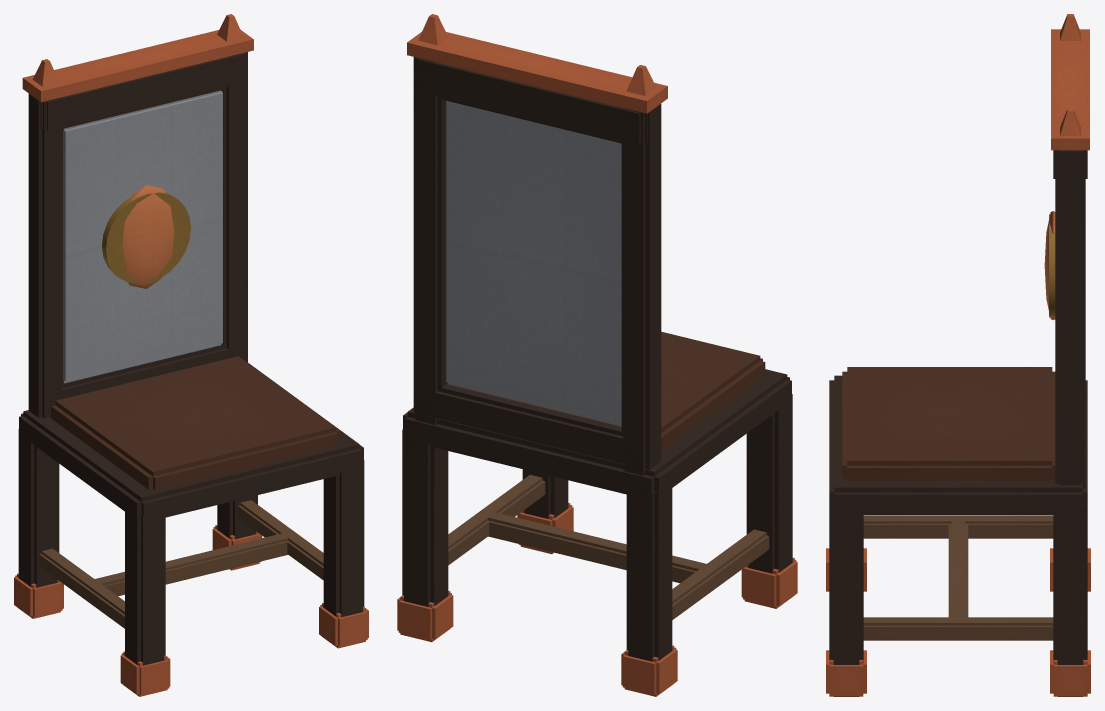
File: chair_high_carved.glb
3 views of the same model, side by side, from view 1: azimuth 30°, elevation 25°; view 2: azimuth 150°, elevation 25°; view 3: azimuth 270°, elevation 25° (orthographic). The views are drawn at different scales.
Visible parts, largest first — view 1: chair_high_carved; view 2: chair_high_carved; view 3: chair_high_carved.
Boxes of the visible parts, left/top/right/bottom form: chair_high_carved: left=14, top=14, right=368, bottom=696; chair_high_carved: left=397, top=14, right=797, bottom=696; chair_high_carved: left=826, top=14, right=1090, bottom=696.
Bounding box in the file's own units: 0.655 × 1.48 × 0.615.
Materials: 1 (1 with a texture image).
